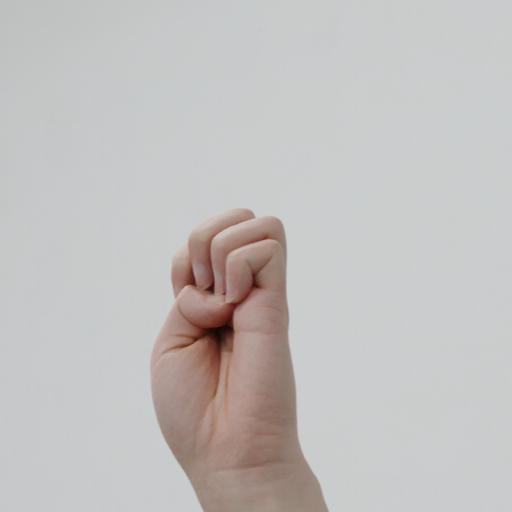E: (148, 207, 302, 475)
